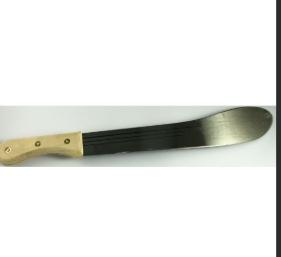MACHETTE: (0, 103, 281, 174)
